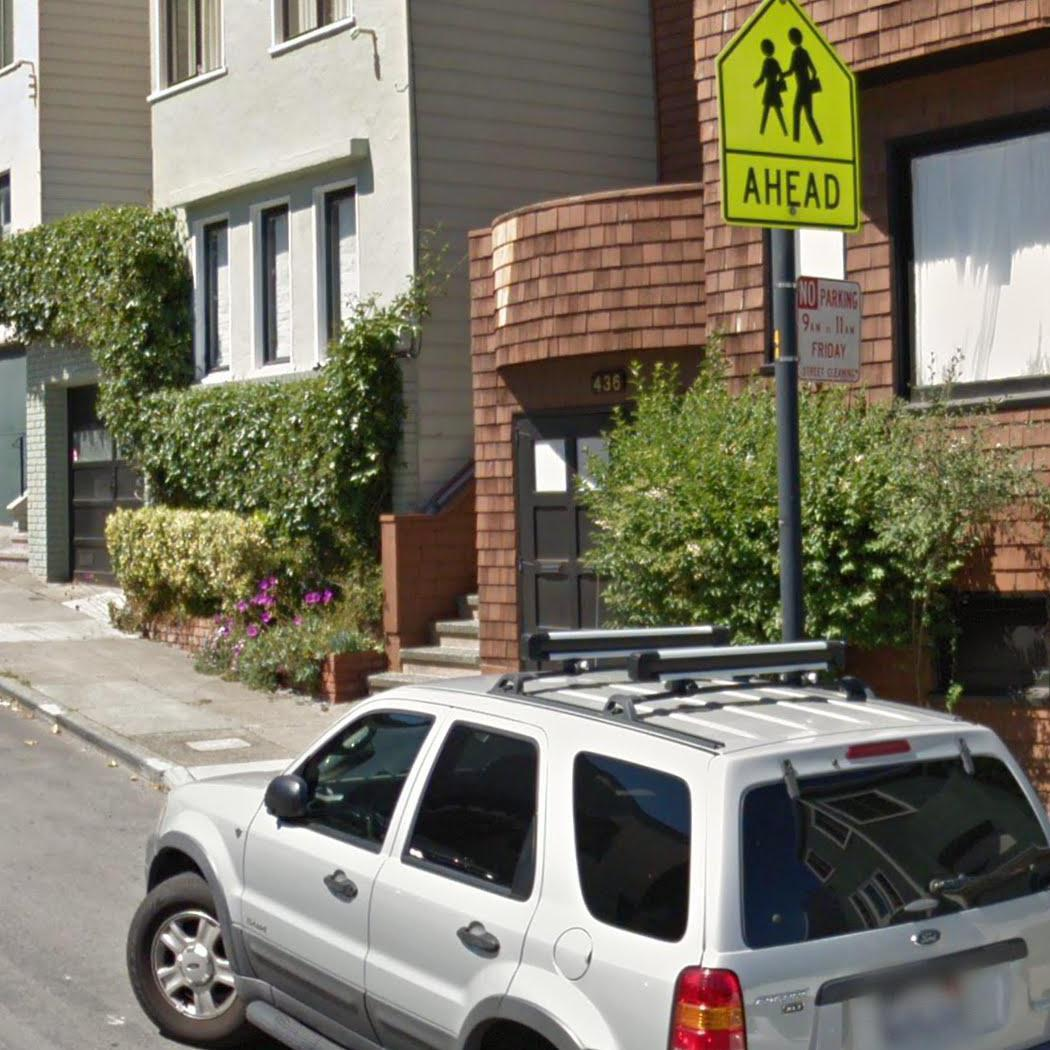No Parking: (787, 272, 864, 385)
